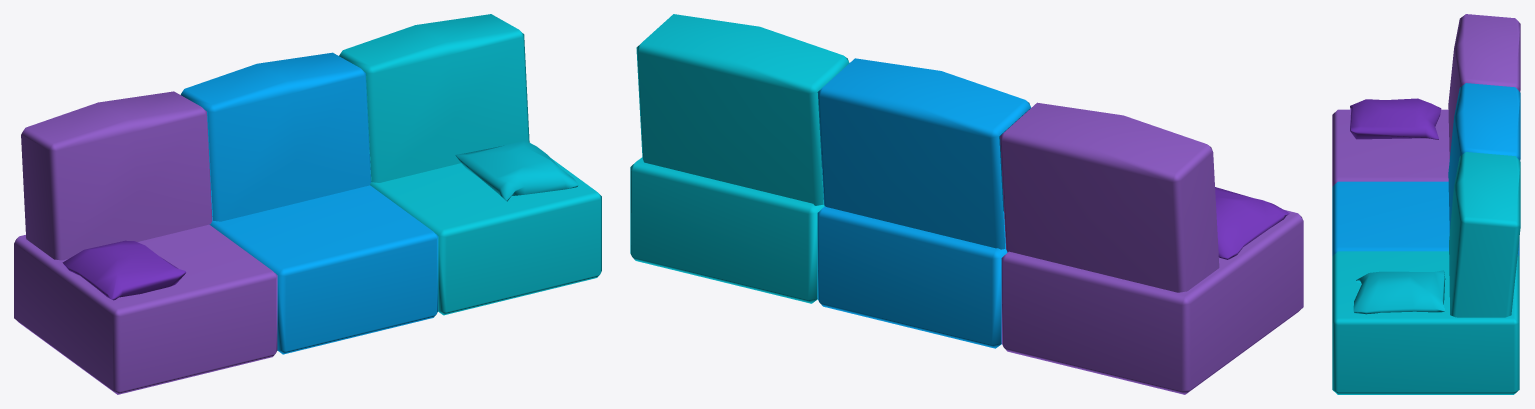
The model's file is sofa_026.glb.
The picture shows the model from 3 angles, left to right: view 1: azimuth 30°, elevation 25°; view 2: azimuth 150°, elevation 25°; view 3: azimuth 270°, elevation 25°; orthographic projection. The views are drawn at different scales.
Visible parts, largest first — view 1: sofa_026; view 2: sofa_026; view 3: sofa_026.
Part boxes in pixels (x1,y1,x2,y2): sofa_026: (14,14,601,394); sofa_026: (630,14,1303,394); sofa_026: (1332,14,1520,394).
Size of the model in its own units: 1.8 by 0.7164 by 0.6745.
Materials: 1 (1 with a texture image).
